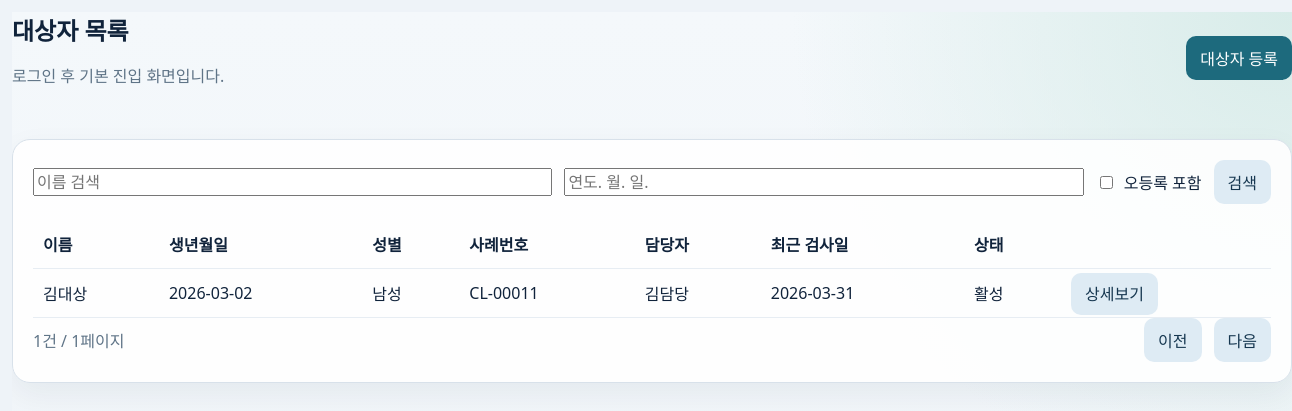
Scenario: client list page › clamps invalid month and day input while typing
Type "20260431" into the field named "생년월일" at (824, 182), box 564,168 -> 1084,196
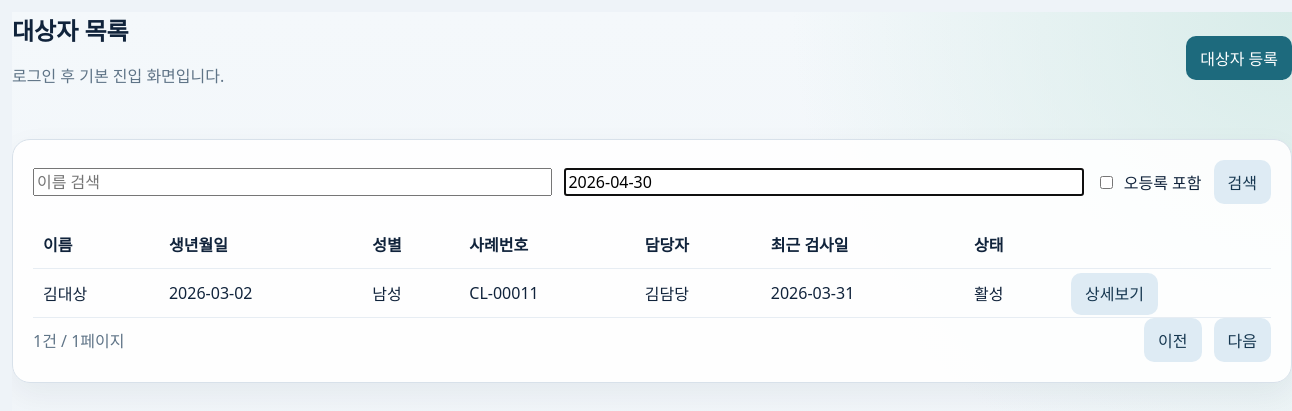
Now the field named "생년월일" holds "2026-04-30"
Replace the text in the field named "생년월일" with "20250229" at (824, 182), box 564,168 -> 1084,196
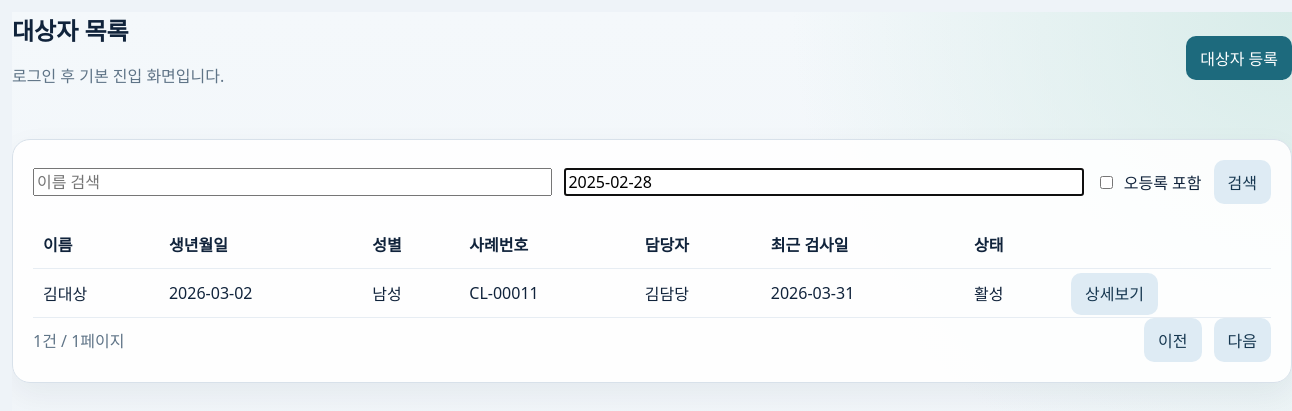
Now the field named "생년월일" holds "2025-02-28", box 564,168 -> 1084,196
